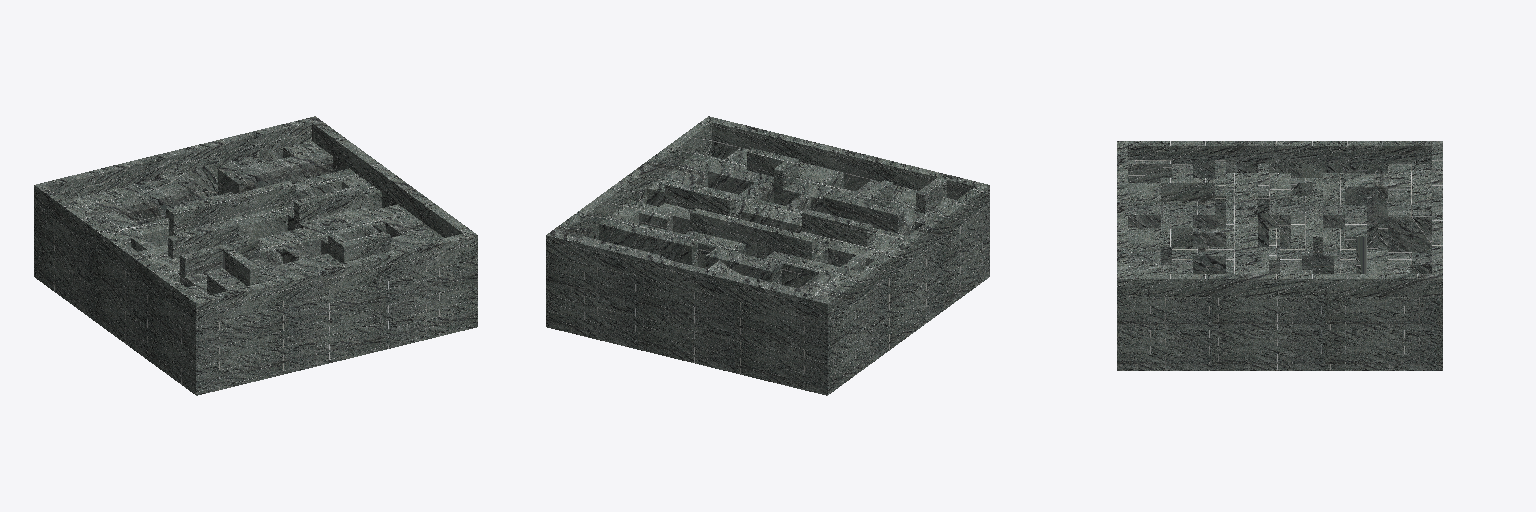
The picture shows the model from 3 angles: view 1: azimuth 30°, elevation 25°; view 2: azimuth 150°, elevation 25°; view 3: azimuth 270°, elevation 25°; orthographic projection.
Visible parts, largest first — view 1: pCube1; view 2: pCube1; view 3: pCube1.
Boxes of the visible parts, x1=… form: pCube1: x1=34, y1=116, x2=477, y2=395; pCube1: x1=546, y1=116, x2=989, y2=395; pCube1: x1=1117, y1=141, x2=1442, y2=370.
Bounding box in the file's own units: 32 × 9.99 × 32.
1 materials, 1 textured.